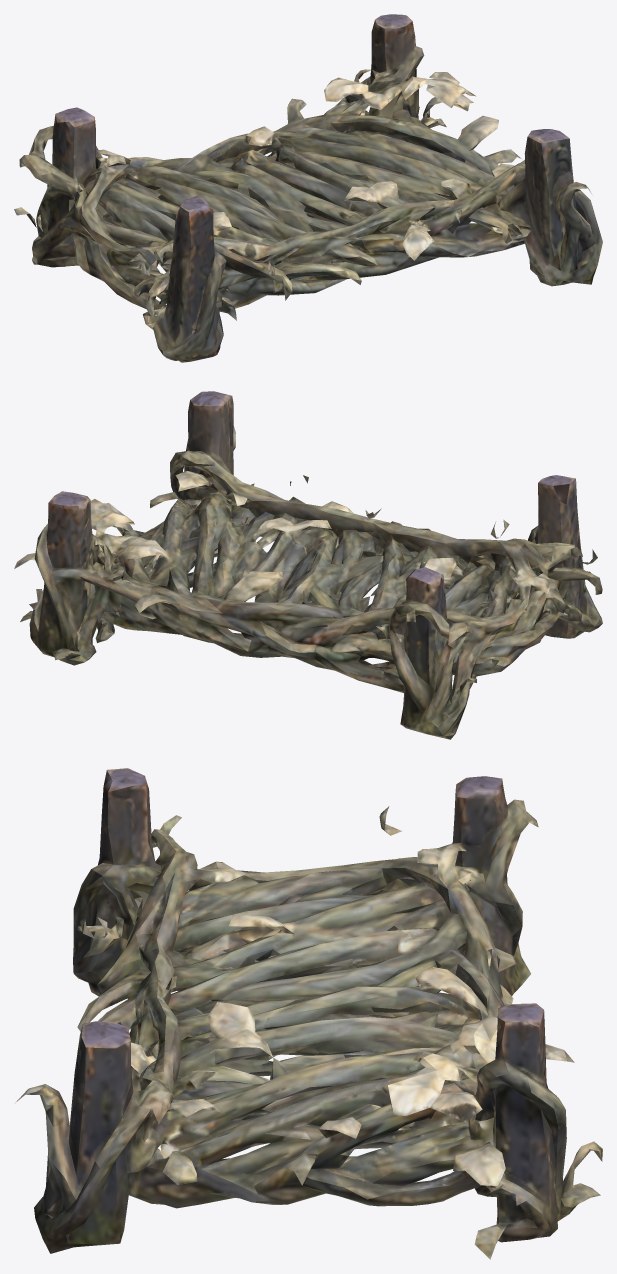
3 views of the same model, one above another, from view 1: azimuth 30°, elevation 25°; view 2: azimuth 150°, elevation 25°; view 3: azimuth 270°, elevation 25° (orthographic). The views are drawn at different scales.
Visible parts, largest first — view 1: geometry_0; view 2: geometry_0; view 3: geometry_0.
Boxes of the visible parts, <box> form: geometry_0: <box>14,14,602,362</box>; geometry_0: <box>14,391,602,739</box>; geometry_0: <box>15,768,602,1259</box>.
Size of the model in its own units: 1.99 by 0.6454 by 1.56.
Materials: 1 (1 with a texture image).
